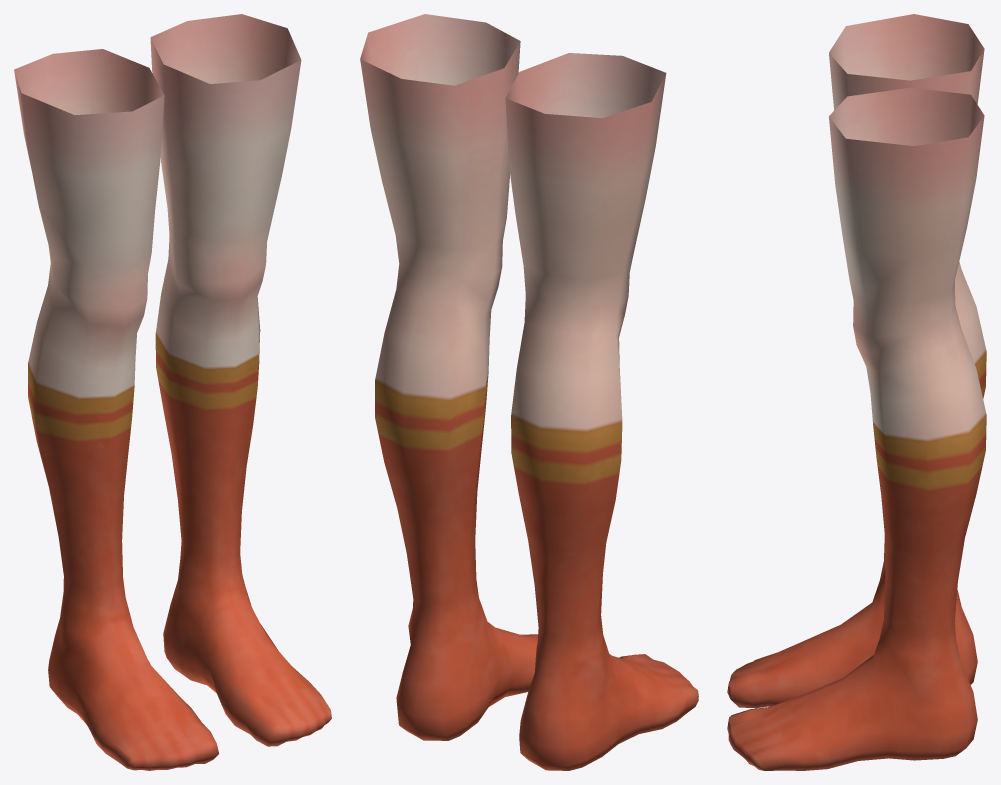
File: p0_lgw1000_00_lgw00.gltf
3 views of the same model, side by side, from view 1: azimuth 30°, elevation 25°; view 2: azimuth 150°, elevation 25°; view 3: azimuth 270°, elevation 25° (orthographic). The views are drawn at different scales.
Parts seen in each view (by area): view 1: lgw00_legs02_mesh_shape:legs_skin, lgw00_legs00_mesh_shape:legs, lgw00_legs01_mesh_shape:legs_skin, lgw00_legs01_mesh_shape:legs; view 2: lgw00_legs02_mesh_shape:legs_skin, lgw00_legs01_mesh_shape:legs_skin, lgw00_legs00_mesh_shape:legs, lgw00_legs01_mesh_shape:legs; view 3: lgw00_legs00_mesh_shape:legs, lgw00_legs02_mesh_shape:legs_skin, lgw00_legs01_mesh_shape:legs_skin, lgw00_legs01_mesh_shape:legs.
Boxes of the visible parts, <box> form: lgw00_legs02_mesh_shape:legs_skin: <box>14,14,301,224</box>; lgw00_legs00_mesh_shape:legs: <box>48,500,331,770</box>; lgw00_legs01_mesh_shape:legs_skin: <box>28,156,281,399</box>; lgw00_legs01_mesh_shape:legs: <box>28,334,259,549</box>; lgw00_legs02_mesh_shape:legs_skin: <box>360,14,666,231</box>; lgw00_legs01_mesh_shape:legs_skin: <box>375,171,645,432</box>; lgw00_legs00_mesh_shape:legs: <box>396,541,698,770</box>; lgw00_legs01_mesh_shape:legs: <box>375,373,622,594</box>; lgw00_legs00_mesh_shape:legs: <box>727,536,977,770</box>; lgw00_legs02_mesh_shape:legs_skin: <box>829,14,984,256</box>; lgw00_legs01_mesh_shape:legs_skin: <box>842,228,986,442</box>; lgw00_legs01_mesh_shape:legs: <box>873,352,986,596</box>.
Size of what is drawn, in the model's own units: 0.2758 by 0.6251 by 0.2287.
2 materials, 2 textured.
